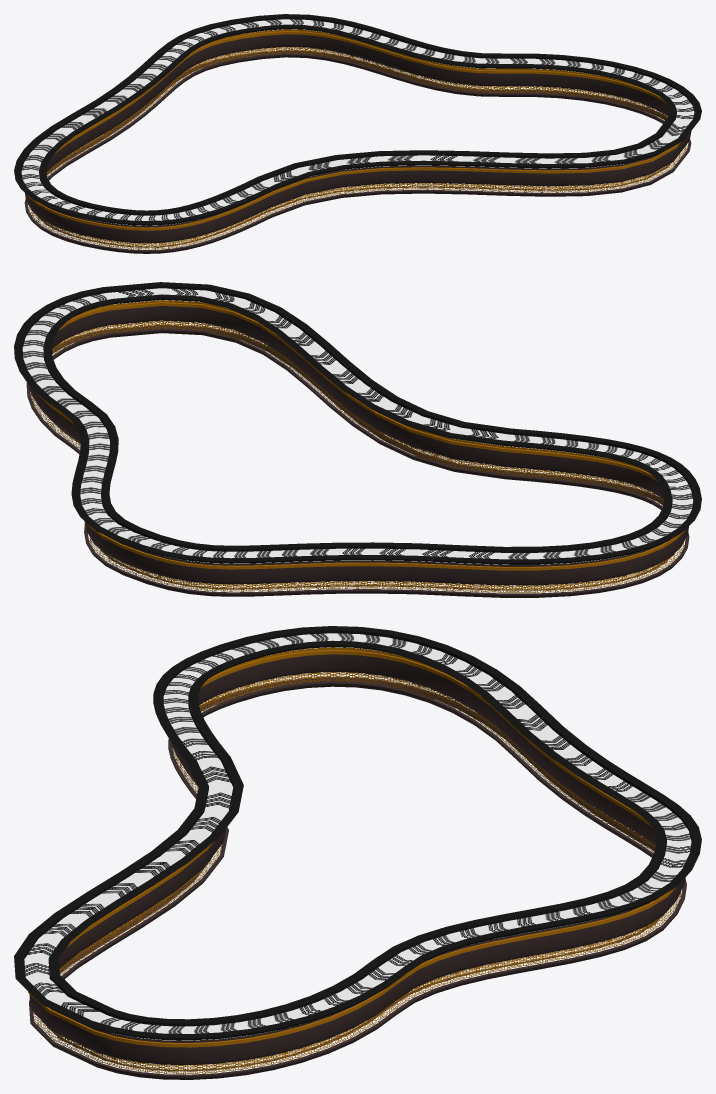
The model's file is Bar Counter Rounded.fbx.
The picture shows the model from 3 angles, top to bottom: view 1: azimuth 30°, elevation 25°; view 2: azimuth 150°, elevation 25°; view 3: azimuth 270°, elevation 25°; orthographic projection. The views are drawn at different scales.
Parts seen in each view (by area): view 1: Bar Counter Rounded Conveyor; view 2: Bar Counter Rounded Conveyor; view 3: Bar Counter Rounded Conveyor.
Boxes of the visible parts, x1,y1,x2,y2 form: Bar Counter Rounded Conveyor: (14,14,701,253); Bar Counter Rounded Conveyor: (14,282,701,597); Bar Counter Rounded Conveyor: (14,626,701,1079).
Size of the model in its own units: 2159 by 120 by 1522.
